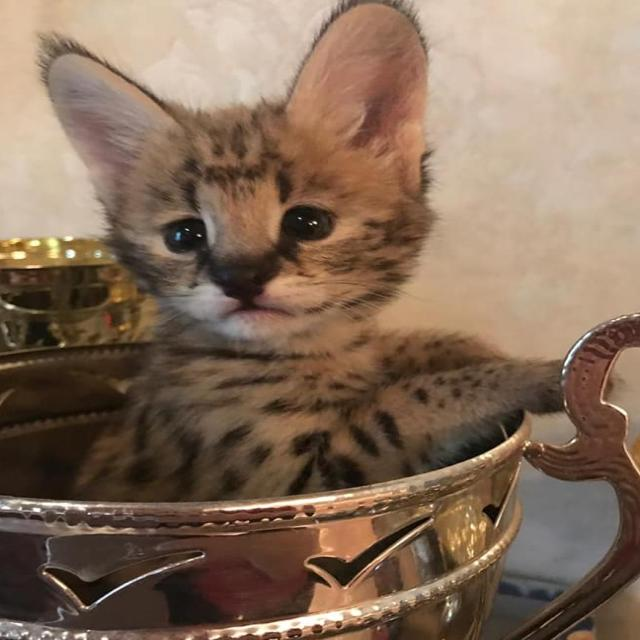Savannah: (34, 0, 623, 510)
